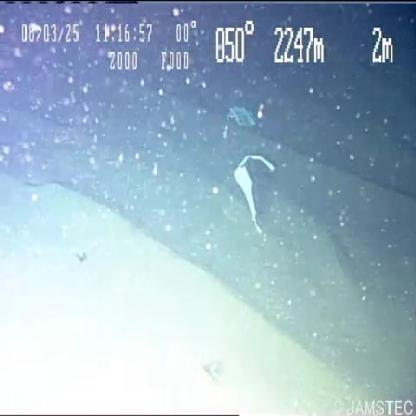Rác: (234, 154, 276, 226)
